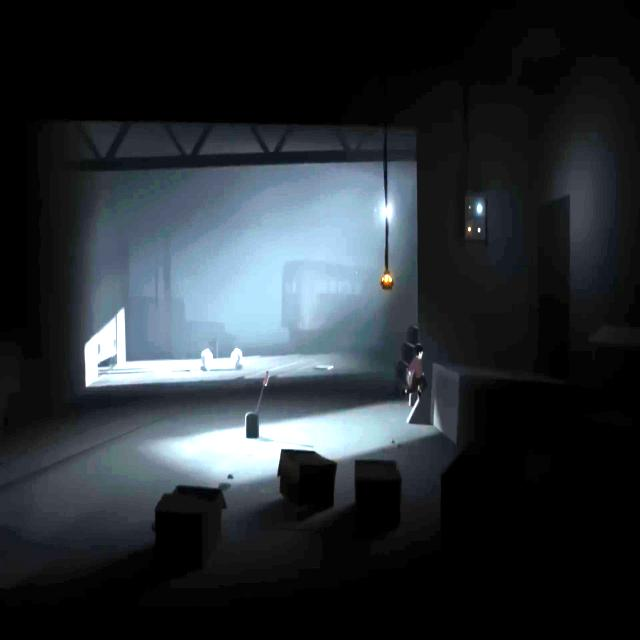boy: (405, 343, 423, 395)
interactible: (245, 371, 270, 438), (381, 274, 394, 291)
zombie: (200, 347, 212, 372), (231, 349, 243, 369)
